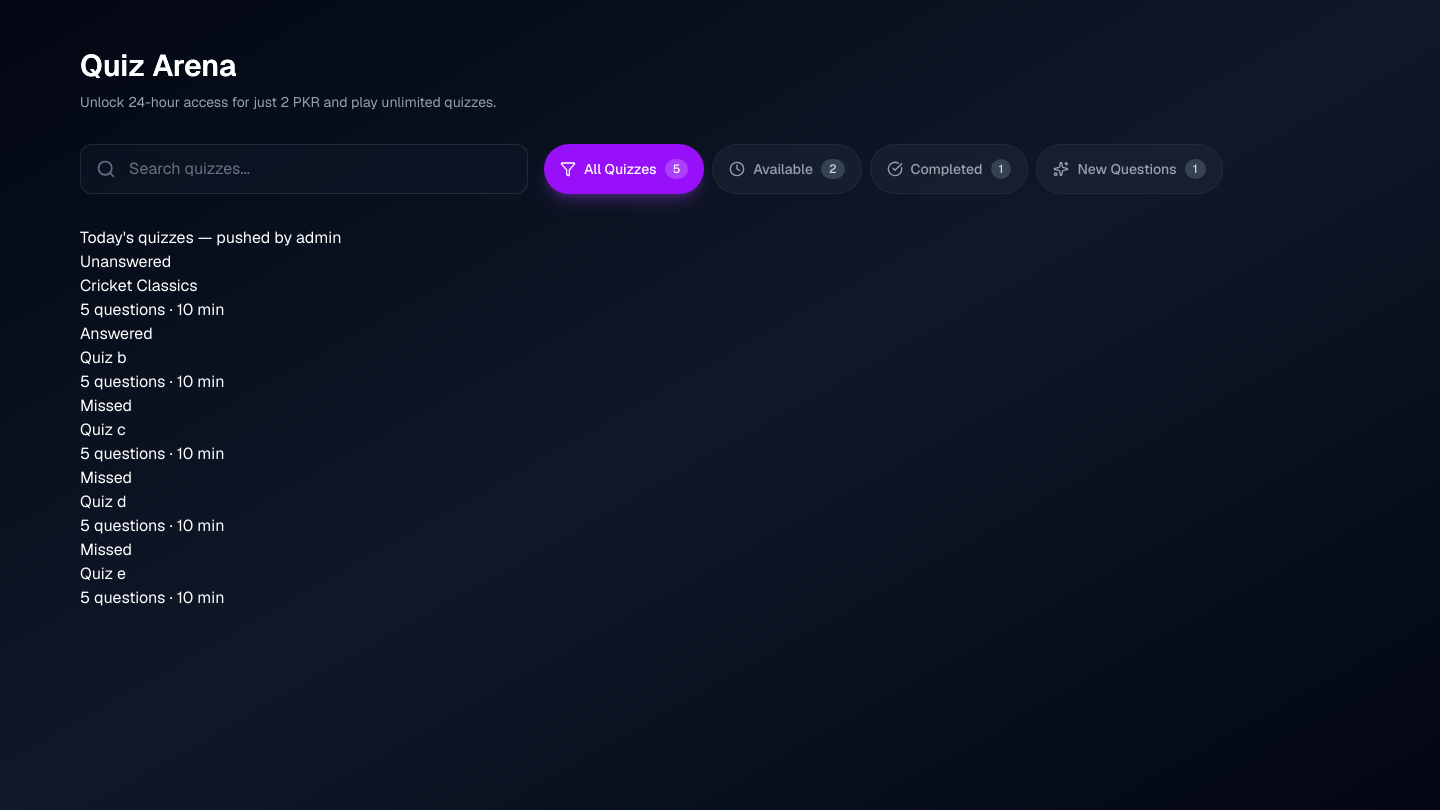
Scenario: quizzes page: access and payment › closes the payment modal
Click the text "Cricket Classics". click: (152, 286)
box: [80,251,224,320]
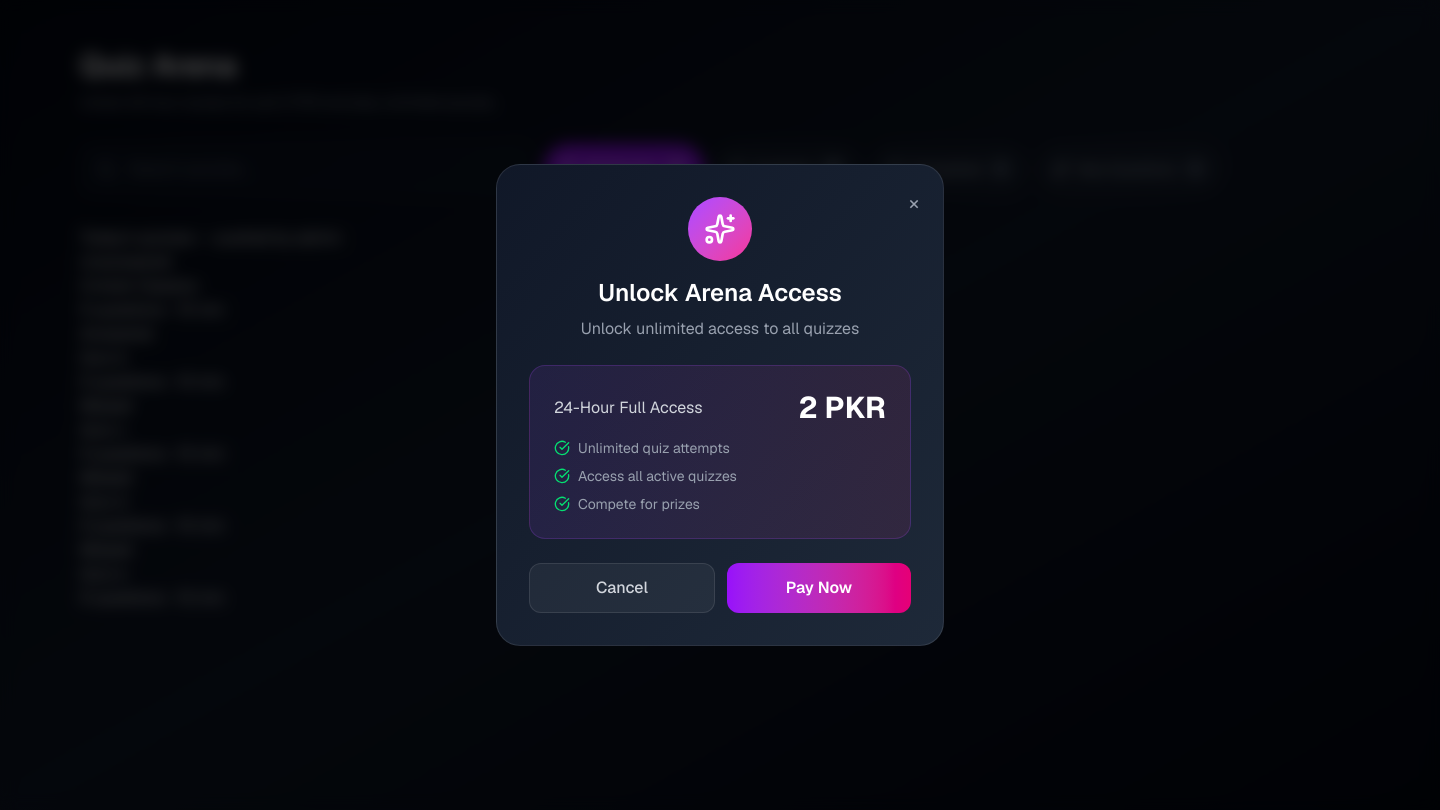
Click the button "Cancel". click: (622, 588)
box: [529,563,715,613]
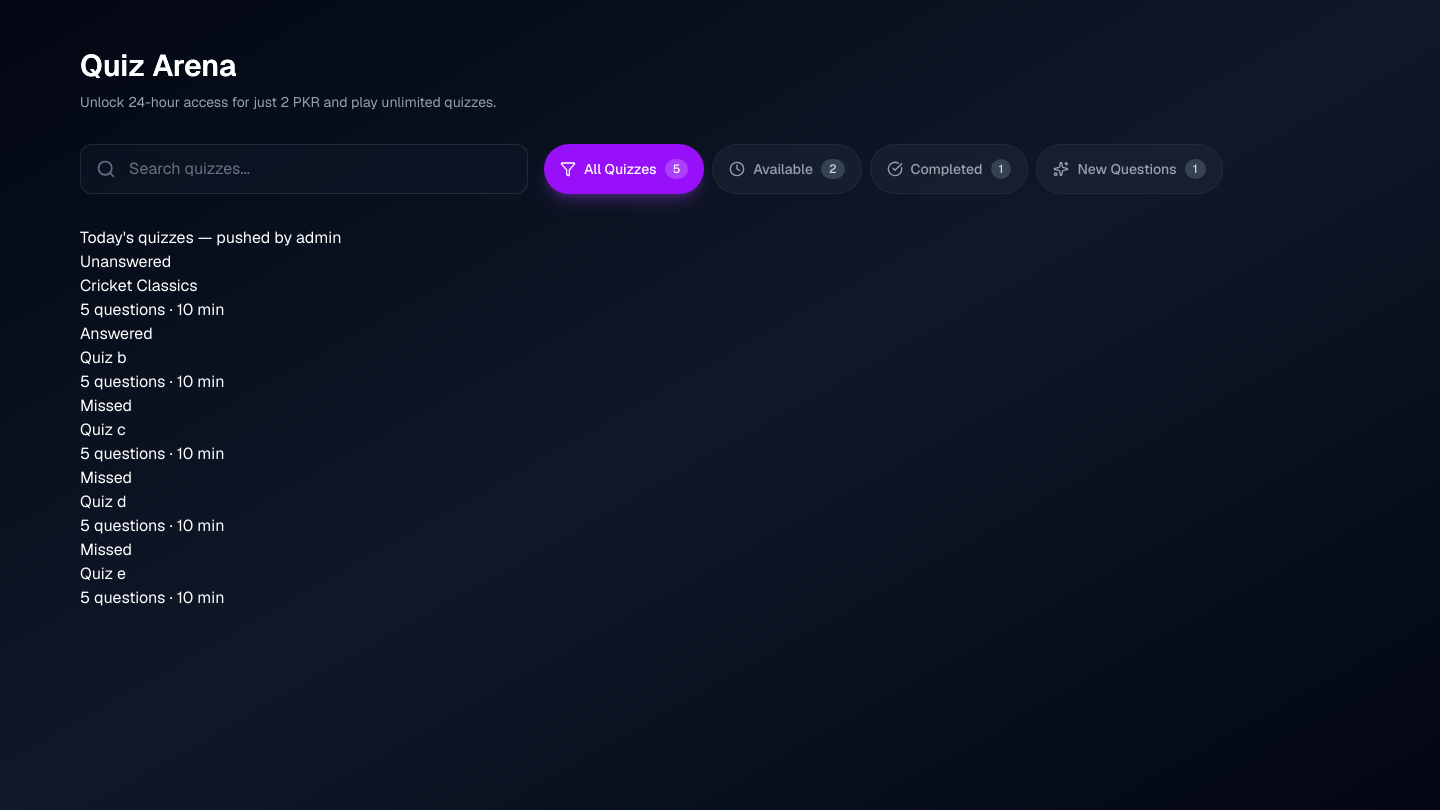
Check: the heading "Unlock Arena Access" is gone
